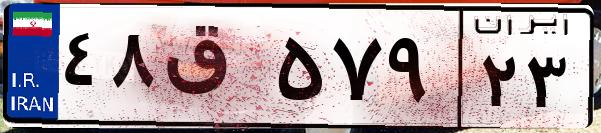2: (475, 38, 525, 113)
3: (525, 38, 570, 115)
4: (57, 26, 110, 100)
5: (270, 28, 330, 110)
7: (330, 28, 385, 110)
8: (110, 28, 158, 98)
9: (385, 28, 445, 110)
ق: (158, 20, 270, 120)
